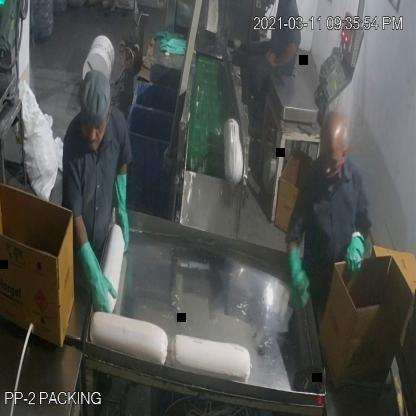glove: (74, 232, 116, 321), (108, 166, 138, 258), (338, 220, 371, 298), (283, 242, 313, 302)
no_glove: (263, 37, 306, 76)
